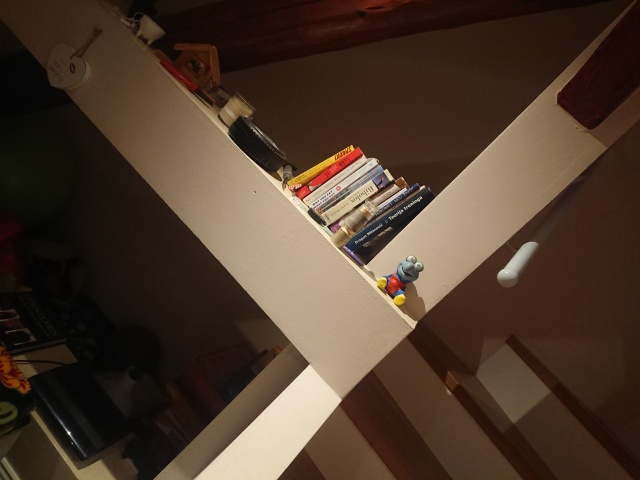Kotanyi Garlic Granules 70g: (328, 197, 379, 251)
